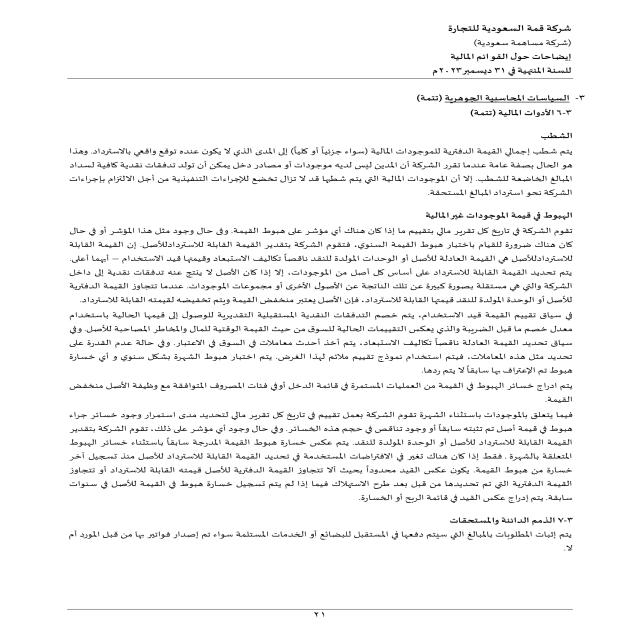notes: (423, 51, 578, 62)
text: (27, 89, 602, 576)
